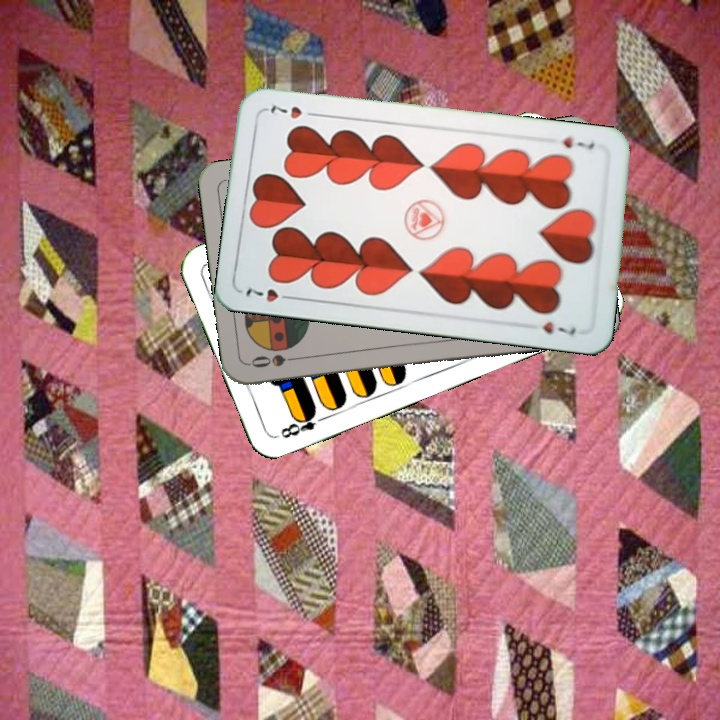E8: (276, 406, 330, 441)
H7: (241, 284, 299, 305), (559, 133, 597, 153)
SO: (247, 350, 305, 371)
